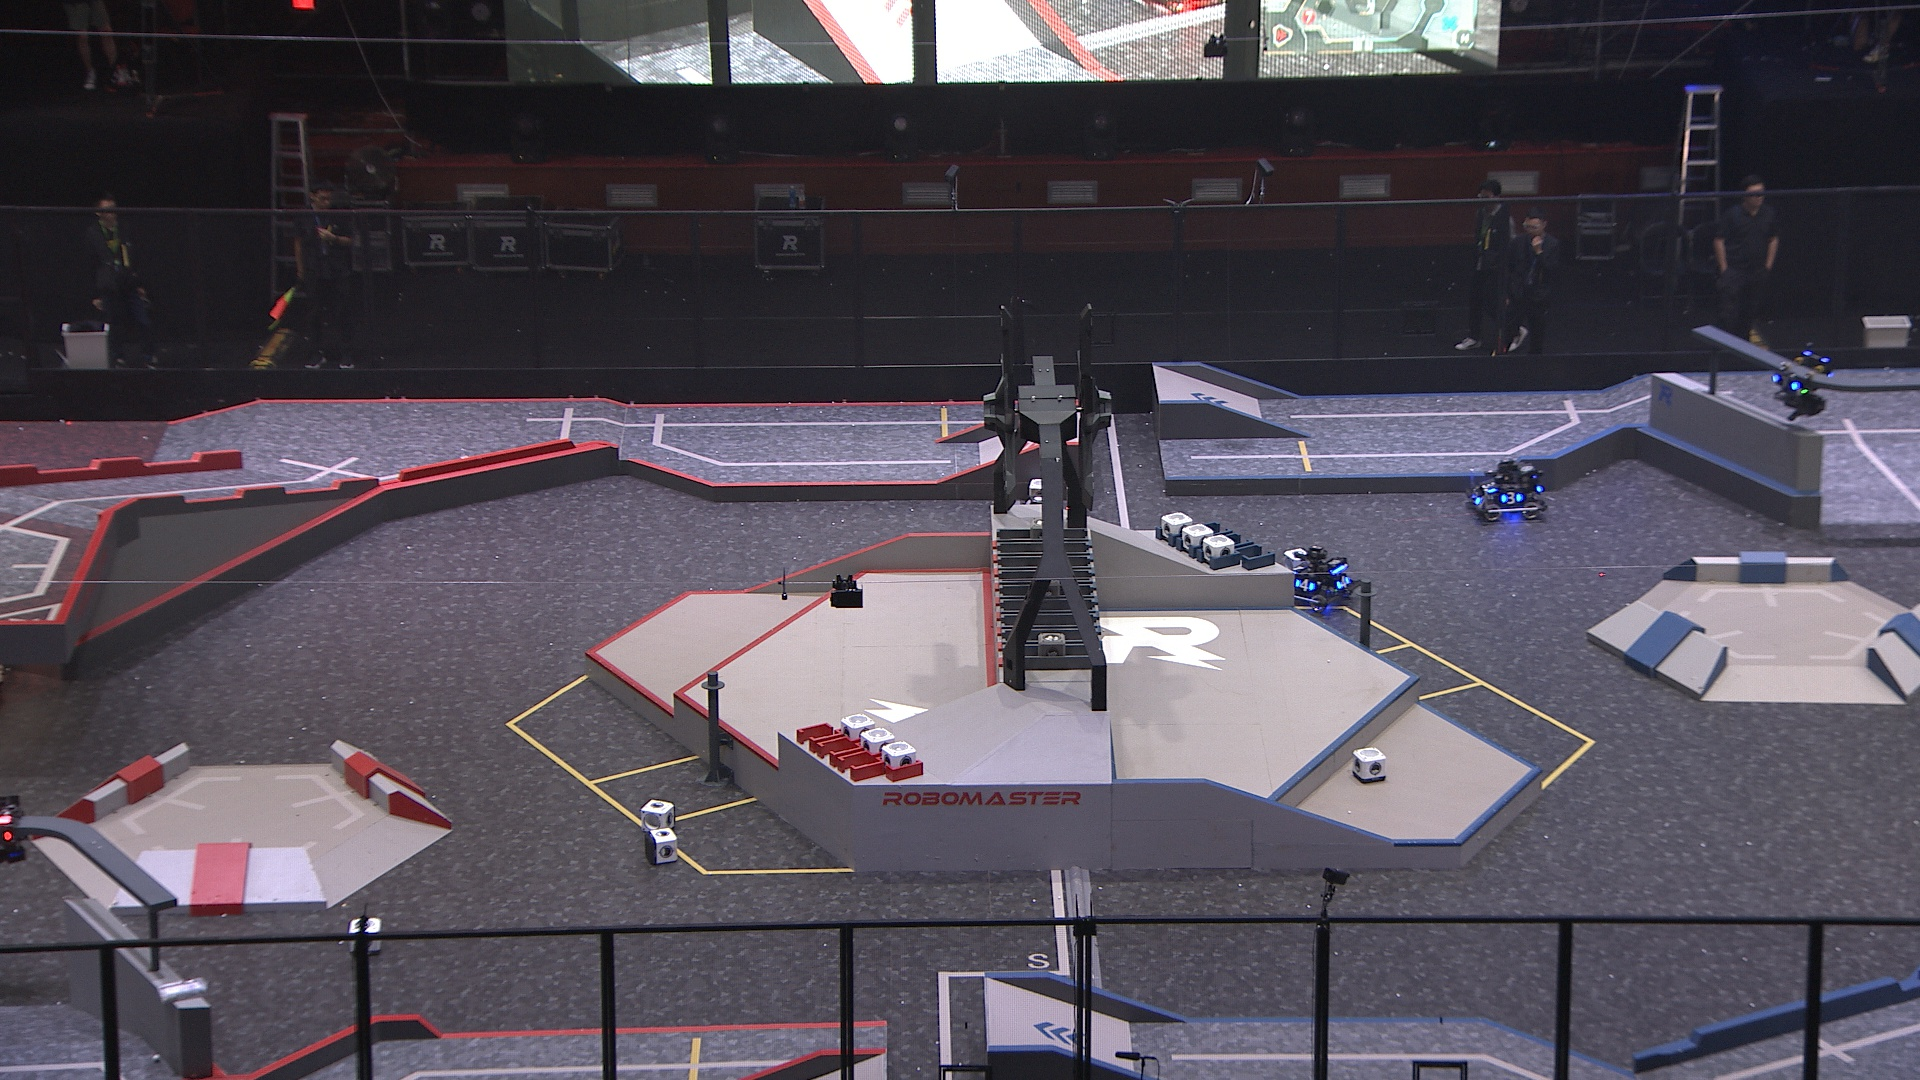armor: (1770, 371, 1803, 396), (1291, 576, 1317, 593), (1499, 489, 1524, 506), (1480, 476, 1498, 496), (1333, 571, 1353, 589), (1468, 488, 1485, 504)
car: (1462, 458, 1549, 522), (1282, 538, 1357, 612)
watcher: (1764, 342, 1837, 423)
